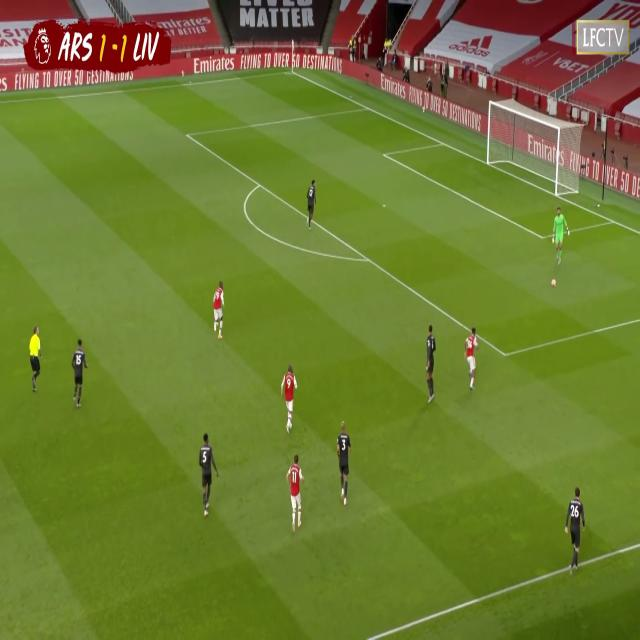ball: (550, 275, 558, 288)
team1: (566, 492, 587, 578), (199, 435, 220, 519), (336, 424, 353, 506), (71, 338, 88, 409), (425, 325, 438, 408), (307, 180, 317, 228)
team2: (287, 454, 303, 530), (281, 366, 298, 434), (464, 330, 479, 393), (213, 281, 226, 341)
